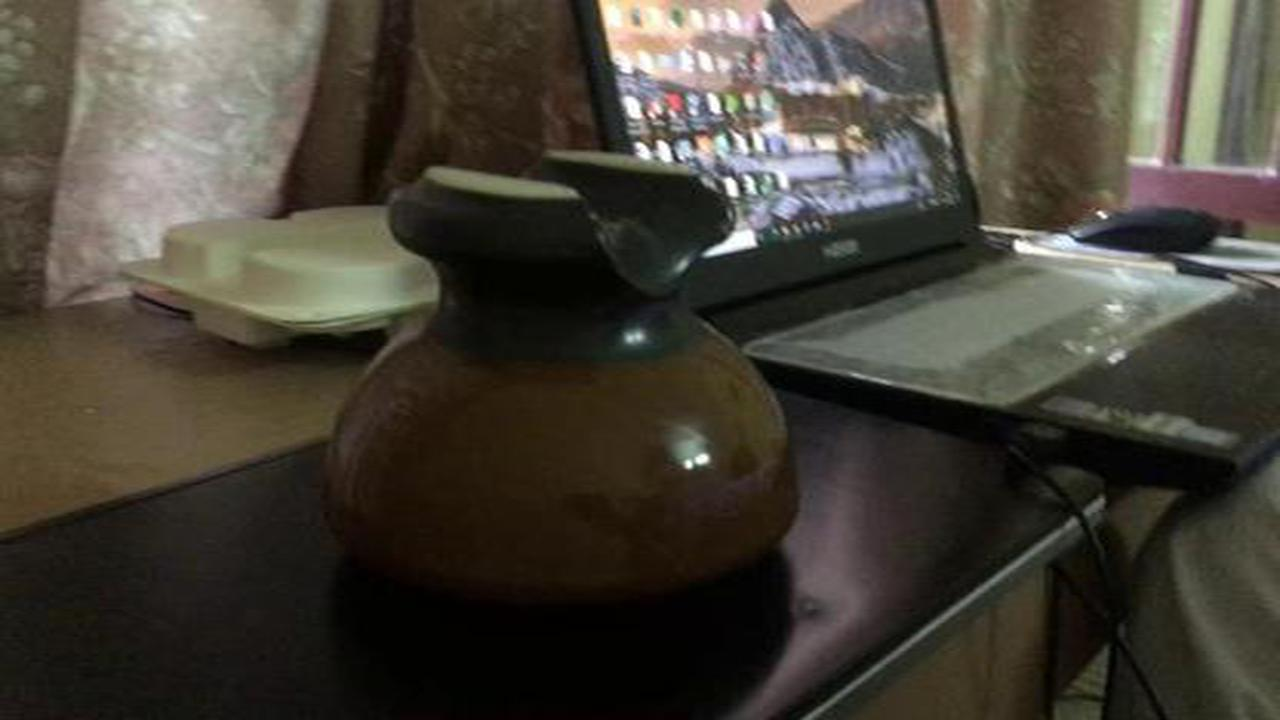insulator_pin: (314, 134, 828, 625)
